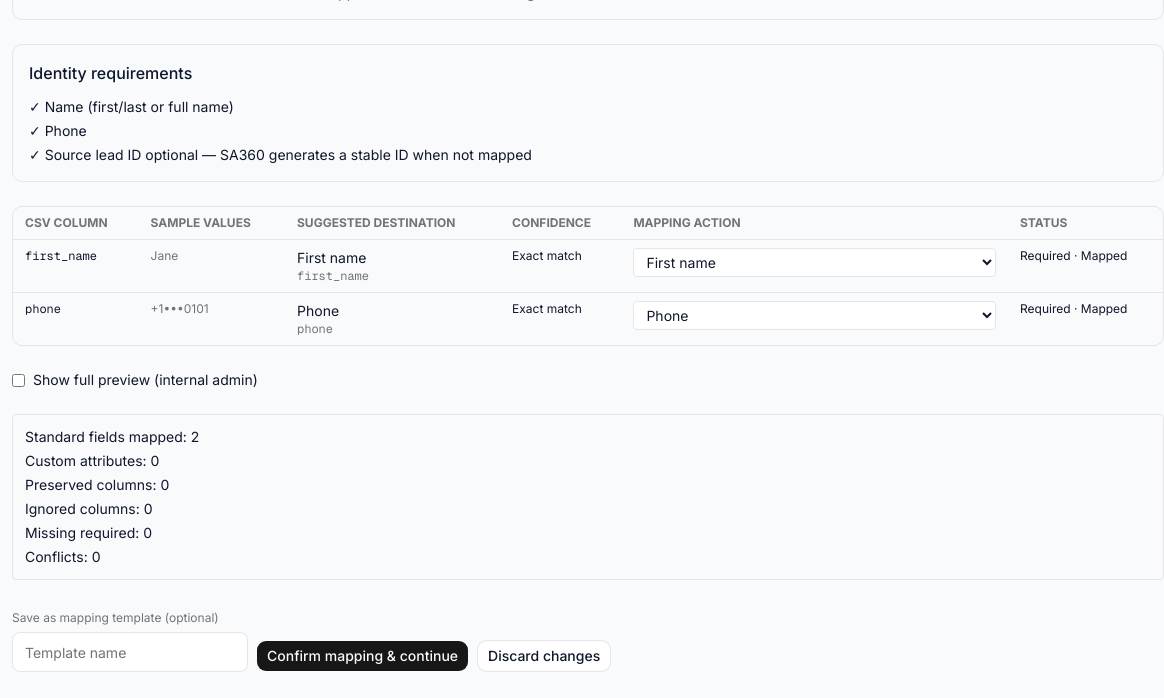
Test: successful confirmation shows destination message not no-op text
The width and height of the screenshot is (1164, 698).
(page scrolled)
Click the button "Confirm mapping & continue": point(362, 656) [256,640,469,672]
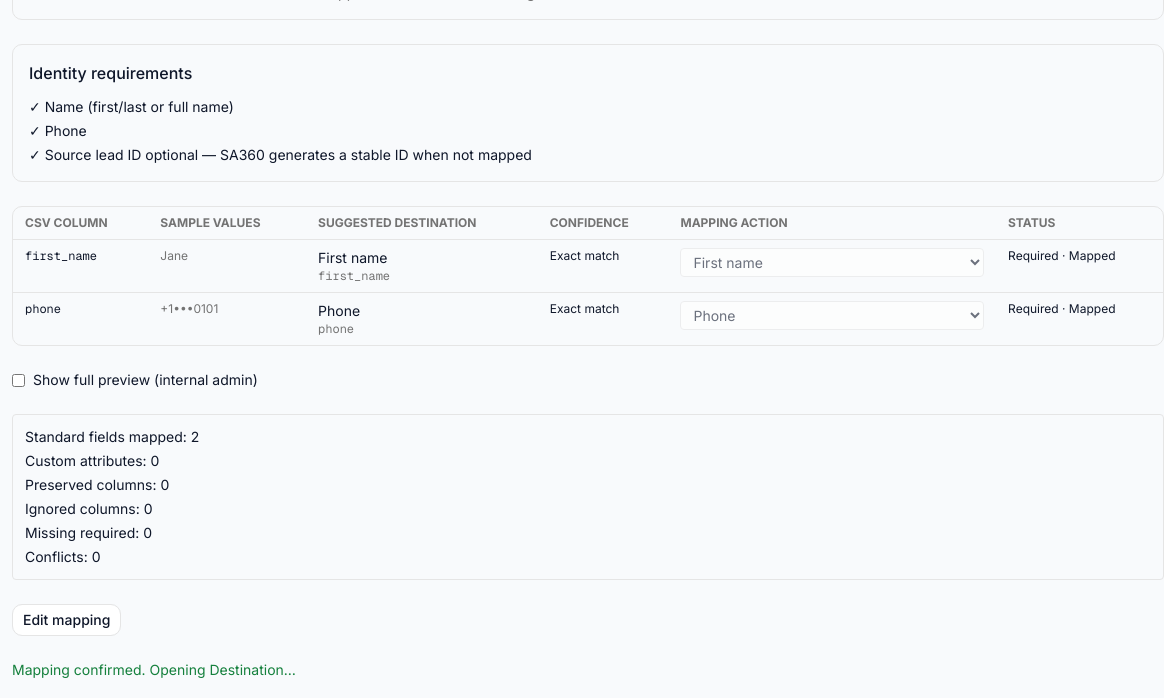
Now the text "Mapping confirmed. Opening Destination…" is shown, box [12,661,296,678]
